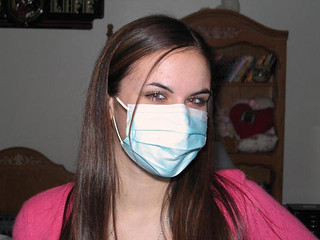surgical: (120, 99, 209, 180)
